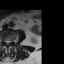CCS_normal: (6, 39, 8, 47)
LFS_severe_stenosis: (10, 38, 12, 43)
LLS_normal: (8, 39, 10, 45)
RFS_severe_stenosis: (2, 38, 4, 43)
RLS_normal: (4, 39, 6, 45)
